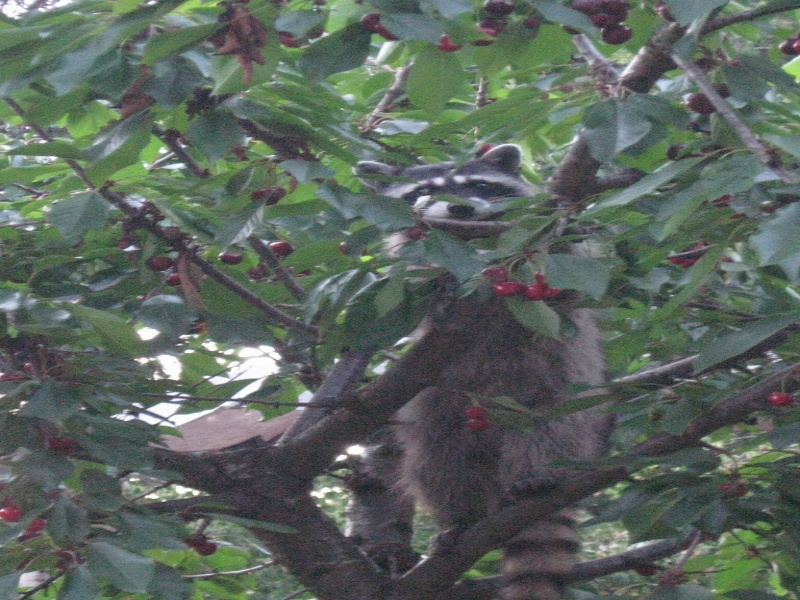raccoon: (346, 145, 617, 587)
